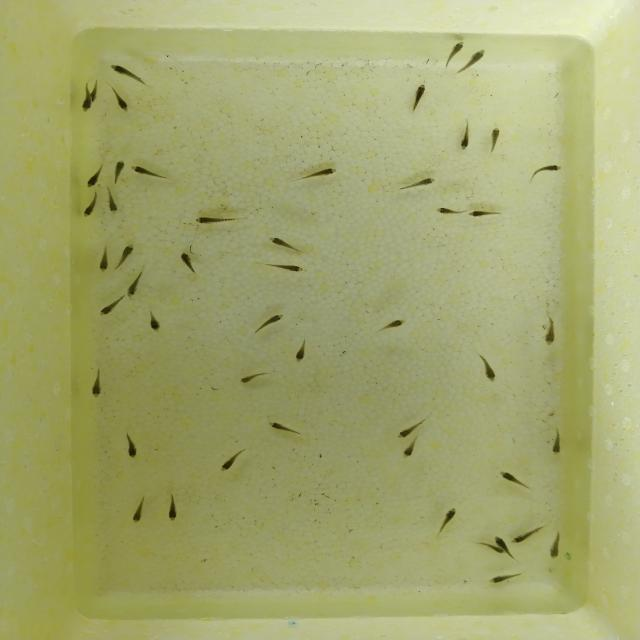fingerling: (286, 163, 346, 186), (192, 210, 252, 230), (106, 60, 150, 86), (494, 468, 536, 492), (390, 417, 430, 441), (537, 314, 563, 350), (472, 352, 500, 385), (395, 175, 441, 195), (289, 334, 317, 366), (510, 521, 548, 544), (125, 495, 152, 526), (261, 234, 305, 253), (216, 448, 248, 473), (265, 259, 312, 276), (526, 161, 564, 182), (84, 369, 108, 401), (436, 504, 460, 536), (372, 315, 412, 334), (252, 311, 285, 334), (129, 164, 171, 182), (407, 81, 430, 113), (170, 250, 202, 273), (264, 420, 310, 436), (76, 81, 94, 118), (456, 122, 478, 152), (547, 427, 568, 458), (142, 308, 166, 335), (126, 270, 147, 300), (442, 39, 464, 67), (236, 369, 272, 386), (109, 90, 133, 114), (465, 48, 488, 72), (98, 296, 122, 319), (86, 163, 106, 190), (428, 204, 466, 218), (117, 239, 136, 267), (486, 572, 524, 586), (164, 494, 182, 523), (96, 242, 112, 274), (121, 434, 141, 459), (80, 196, 99, 221), (548, 532, 564, 561), (110, 159, 127, 186), (486, 125, 503, 149), (397, 442, 419, 460), (104, 192, 121, 215), (466, 209, 504, 219), (490, 534, 510, 548)
